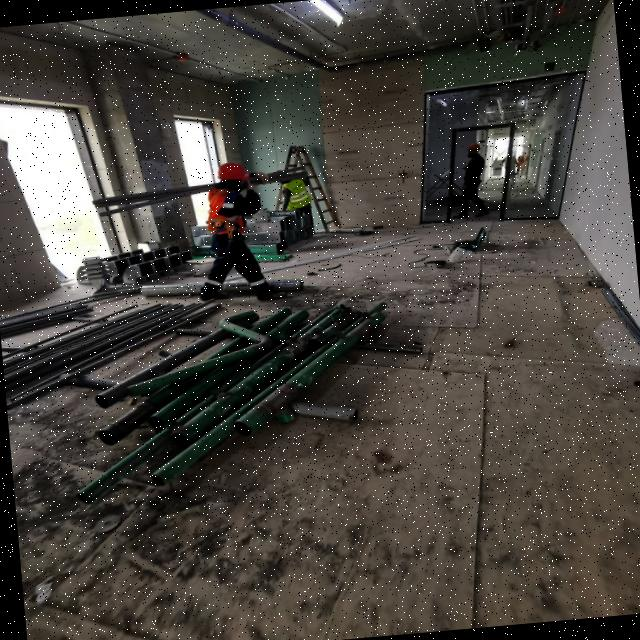Helmet: (217, 161, 250, 185), (467, 144, 482, 154)
Jacket: (211, 181, 247, 238), (282, 181, 311, 211)
NoJacket: (465, 154, 485, 189)
